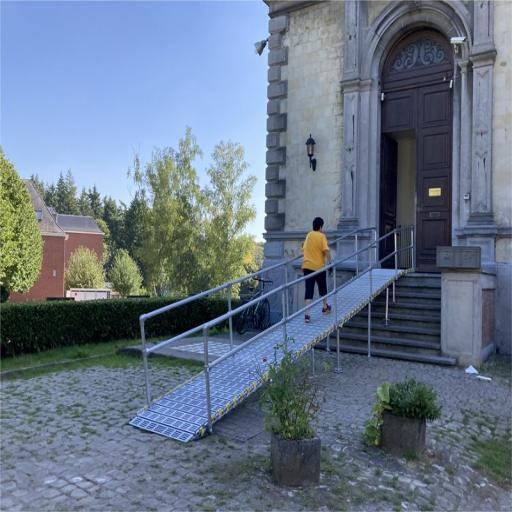child: (415, 84, 452, 272), (379, 134, 397, 268)
crosswalk: (302, 218, 332, 324)
entrance: (130, 226, 405, 442)
laptop: (331, 273, 456, 365)
